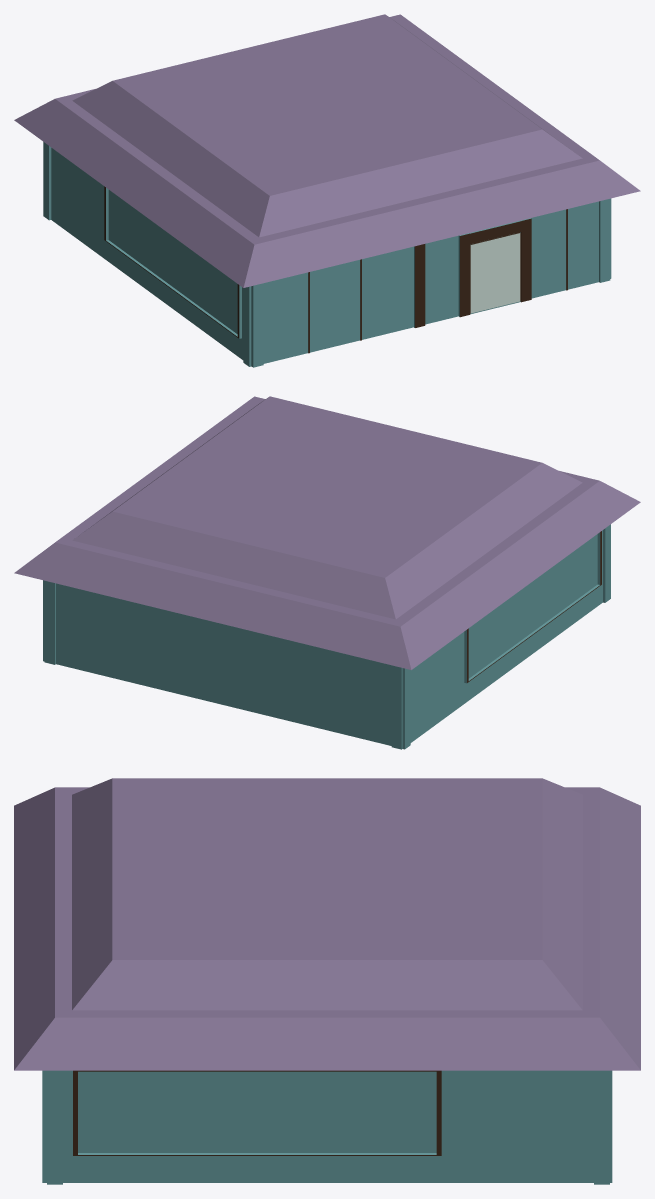
Rendered from chalette.fbx.
3 views of the same model, one above another, from view 1: azimuth 30°, elevation 25°; view 2: azimuth 150°, elevation 25°; view 3: azimuth 270°, elevation 25° (orthographic). The views are drawn at different scales.
Parts seen in each view (by area): view 1: Chalette; view 2: Chalette; view 3: Chalette.
Boxes of the visible parts, x1=… form: Chalette: x1=14, y1=14, x2=640, y2=367; Chalette: x1=14, y1=396, x2=640, y2=749; Chalette: x1=14, y1=778, x2=640, y2=1184.
Bounding box in the file's own units: 2386 × 818 × 2386.
